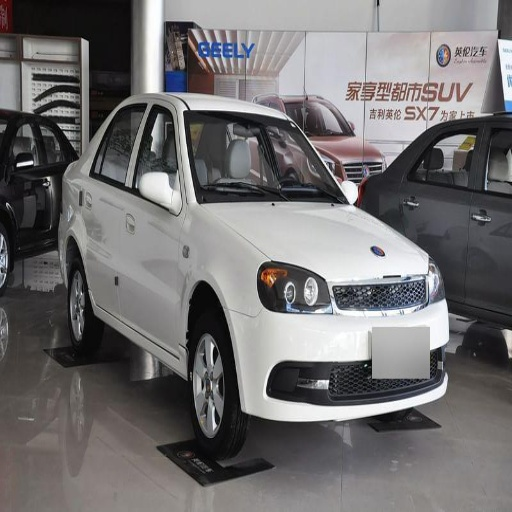front_bumper: (230, 277, 445, 421)
front_left_light: (397, 270, 442, 307)
front_right_door: (121, 102, 182, 347), (470, 147, 508, 255)
front_right_light: (259, 262, 331, 313)
hood: (218, 204, 428, 281)
